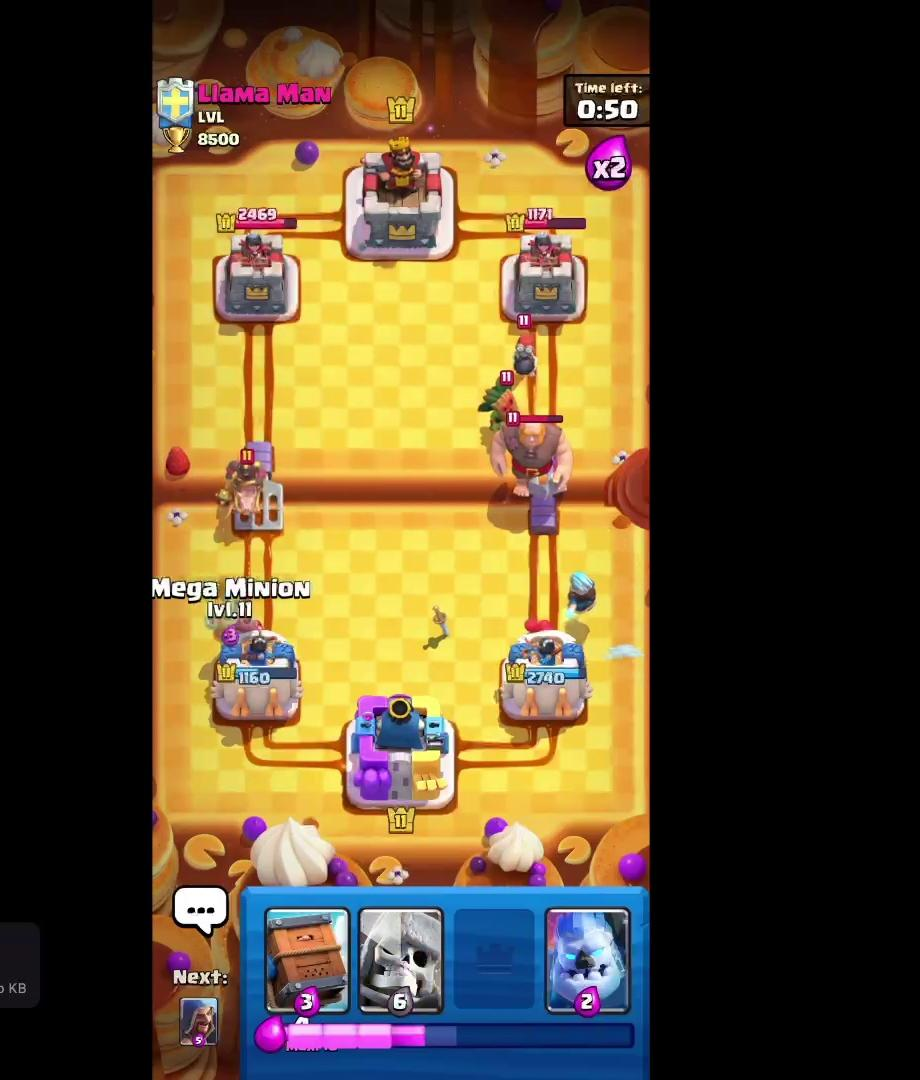Bomber: (505, 316, 557, 383)
Dart Goblin: (476, 374, 524, 437)
Giant: (491, 414, 574, 499)
Hog Rider: (216, 439, 281, 528)
